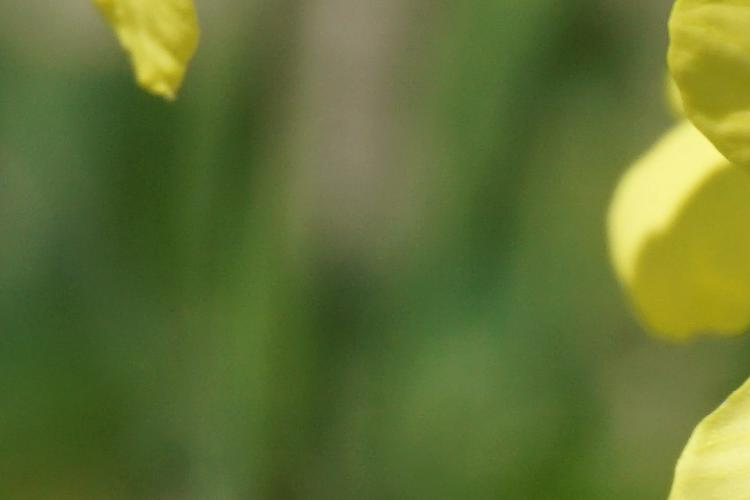yellow: (622, 32, 748, 500)
